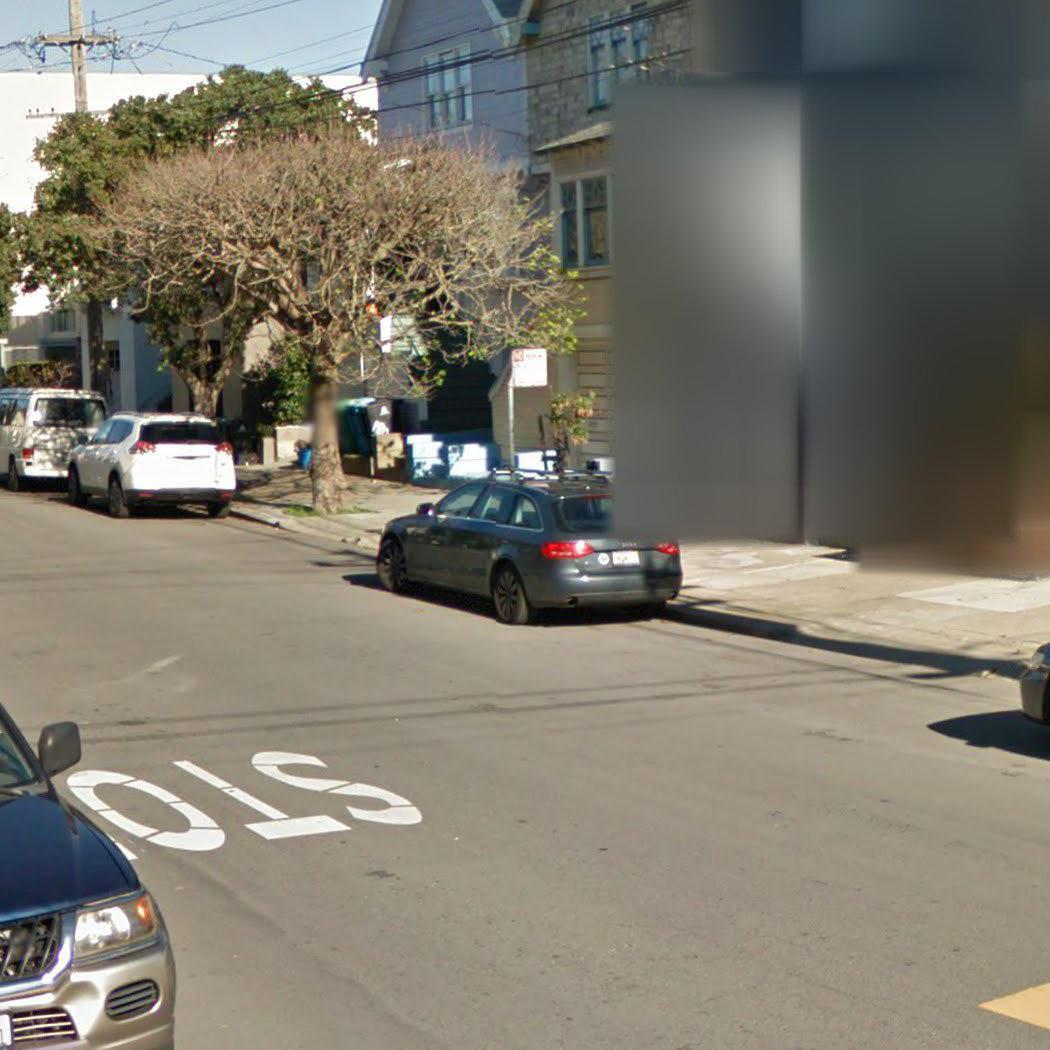No Parking: (509, 345, 550, 389)
